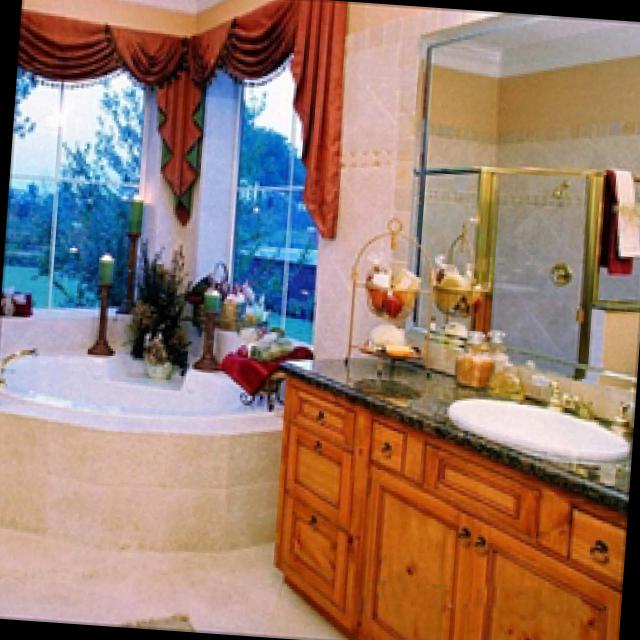2001: (11, 19, 182, 301), (230, 1, 340, 347)
bath occluded: (0, 338, 37, 387)
bathroom: (461, 398, 625, 454)
bathtub: (0, 343, 284, 552), (1, 344, 285, 420)
bottle crop: (462, 331, 491, 381), (491, 359, 524, 391)
cabinet door: (273, 373, 628, 640)
candle holder: (125, 190, 146, 307), (95, 248, 119, 348), (197, 287, 222, 364)
counter bottom: (289, 358, 633, 502)
curtain crop: (180, 0, 347, 234), (25, 9, 192, 213)
mirror crop: (410, 15, 640, 387)
plant -x: (123, 235, 195, 355)
rack: (351, 218, 437, 375)
shower crop: (420, 166, 640, 371)
shower handle: (547, 176, 573, 197)
sink basin: (452, 396, 630, 460)
sink occluded: (563, 390, 597, 415)
soap bottle: (376, 262, 421, 310), (383, 338, 413, 354)
sponge cake: (374, 322, 404, 339)
towel basket: (222, 344, 311, 388), (609, 169, 640, 270), (620, 169, 640, 253)
